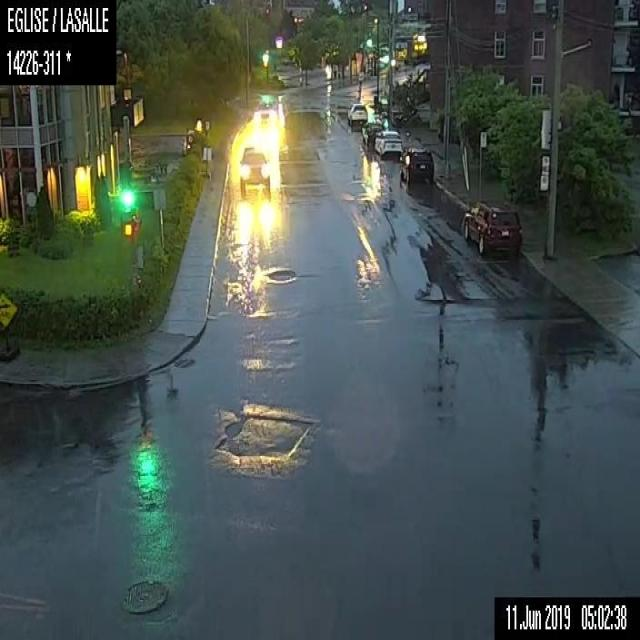vehicle: (461, 197, 523, 256), (399, 148, 434, 189), (238, 147, 270, 188), (374, 128, 403, 157), (252, 96, 277, 124), (362, 119, 385, 147), (346, 101, 368, 126)
